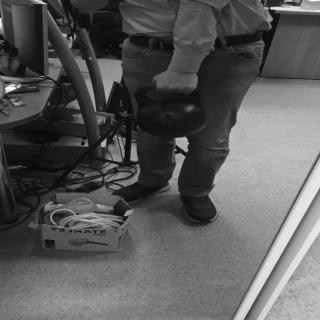kettlebell: (135, 83, 208, 138)
